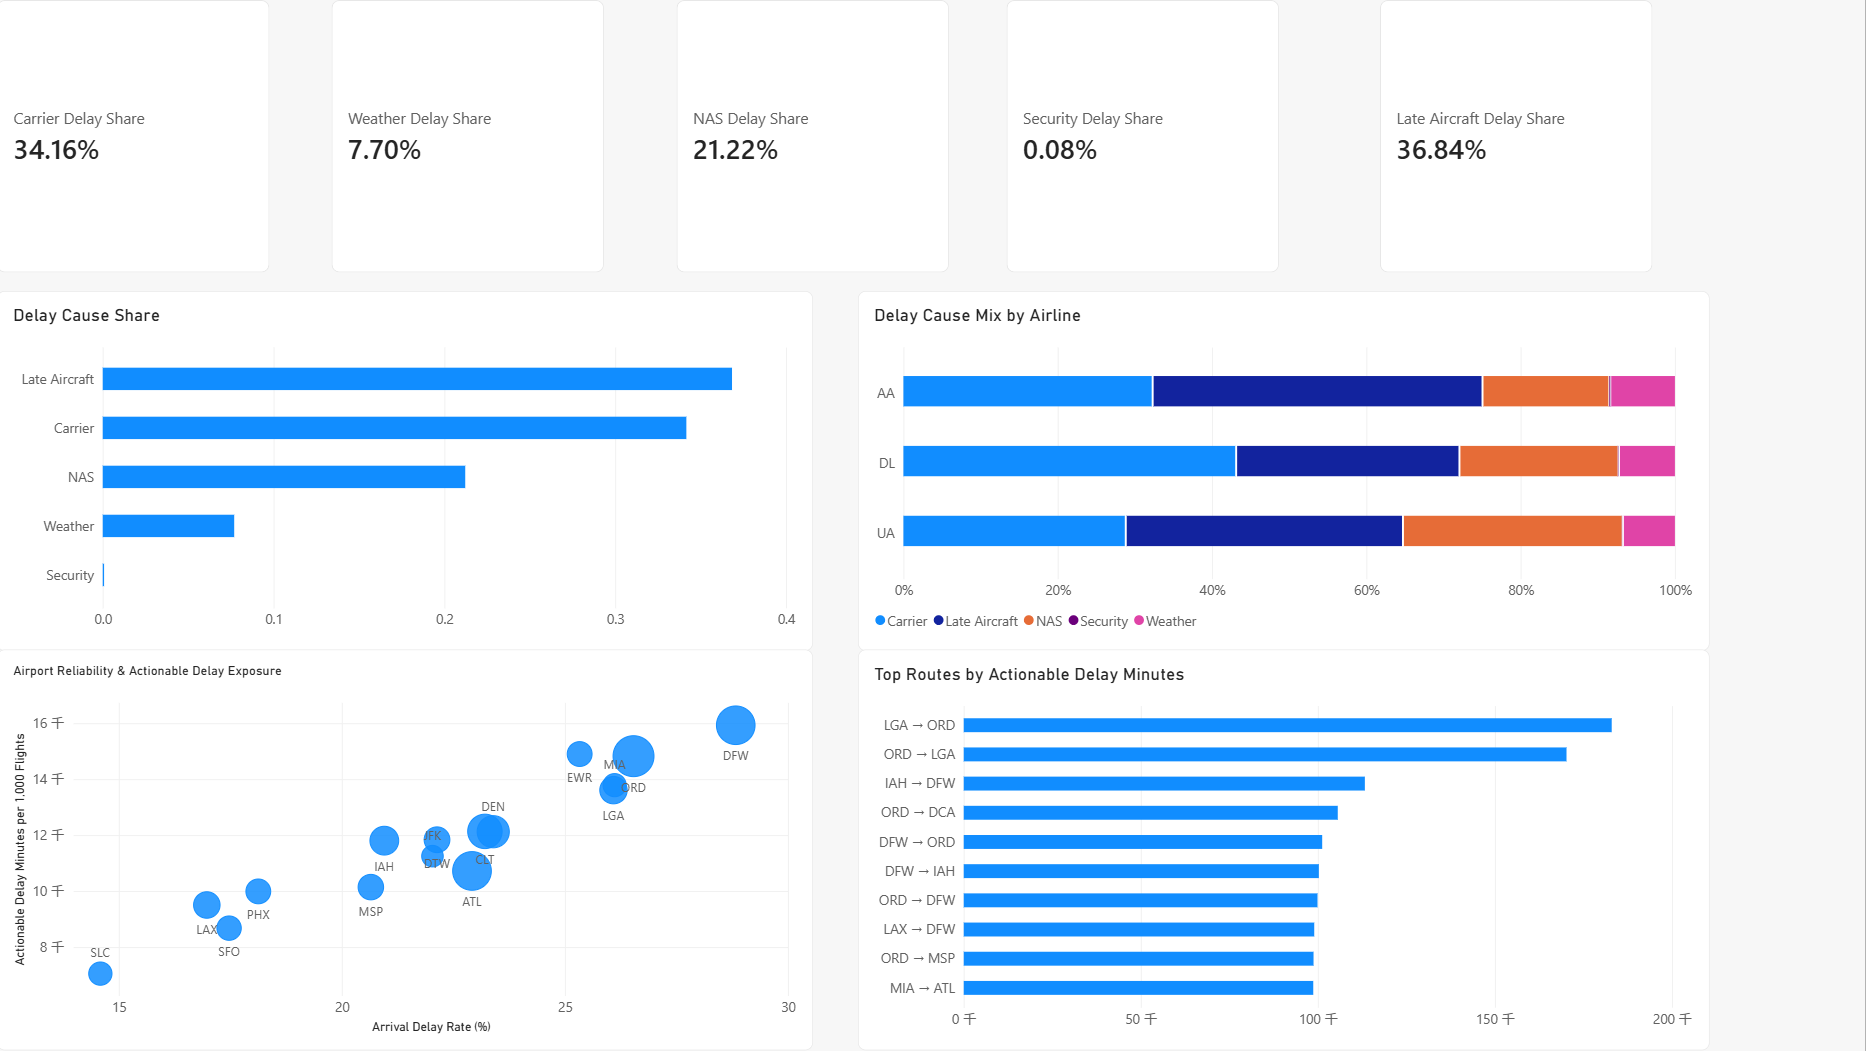

The page's visual inventory and layout, read from the dashboard file:
{"tool":"powerbi","page":{"name":"Root Causes & Network Performance","canvas":[1920,1080],"ordinal":1},"visuals":[{"type":"cardVisual","fields":{"Data":["flight_dashboard.Carrier Delay Share"]},"box":[0,0,280,280],"z":0},{"type":"cardVisual","fields":{"Data":["flight_dashboard.Weather Delay Share"]},"box":[343.3,0,280,280],"z":1000},{"type":"cardVisual","fields":{"Data":["flight_dashboard.NAS Delay Share"]},"box":[698.3,0,280,280],"z":2000},{"type":"cardVisual","fields":{"Data":["flight_dashboard.Security Delay Share"]},"box":[1038.3,0,280,280],"z":3000},{"type":"cardVisual","fields":{"Data":["flight_dashboard.Late Aircraft Delay Share"]},"box":[1421.7,0,280,280],"z":4000},{"type":"clusteredBarChart","title":"Delay Cause Share ","fields":{"Category":["DelayCause.Delay Cause"],"Y":["DelayCause.Delay Cause Share Selected"]},"box":[0,298.3,838.3,370],"z":5000},{"type":"hundredPercentStackedBarChart","title":"Delay Cause Mix by Airline","fields":{"Category":["flight_dashboard.Marketing_Airline_Network"],"Series":["DelayCause.Delay Cause"],"Y":["DelayCause.Delay Cause Minutes Selected"]},"box":[885,298.3,875,370],"z":6000},{"type":"scatterChart","title":"Airport Reliability & Actionable Delay Exposure","fields":{"Category":["airport_priority.Origin"],"Size":["Sum(airport_priority.ScheduledDepartures)"],"X":["Sum(airport_priority.DelayRatePct)"],"Y":["Sum(airport_priority.ActionableDelayIntensity)"]},"box":[0,668.3,838.3,411.7],"z":7000},{"type":"clusteredBarChart","title":"Top Routes by Actionable Delay Minutes","fields":{"Category":["flight_dashboard.Route"],"Y":["Sum(flight_dashboard.ActionableDelayMinutes)"]},"box":[885,668,875,412],"z":8000}]}

Visuals, with their boxes in screenshot pixels (x1, y1, x2, y2), scaled from the page's 1920x1080 canvas onto the 1870x1051 screenshot:
cardVisual - flight_dashboard.Carrier Delay Share: bbox=[0, 0, 273, 272]
cardVisual - flight_dashboard.Weather Delay Share: bbox=[334, 0, 607, 272]
cardVisual - flight_dashboard.NAS Delay Share: bbox=[680, 0, 953, 272]
cardVisual - flight_dashboard.Security Delay Share: bbox=[1011, 0, 1284, 272]
cardVisual - flight_dashboard.Late Aircraft Delay Share: bbox=[1385, 0, 1657, 272]
"Delay Cause Share " clusteredBarChart: bbox=[0, 290, 816, 650]
"Delay Cause Mix by Airline" hundredPercentStackedBarChart: bbox=[862, 290, 1714, 650]
"Airport Reliability & Actionable Delay Exposure" scatterChart: bbox=[0, 650, 816, 1050]
"Top Routes by Actionable Delay Minutes" clusteredBarChart: bbox=[862, 650, 1714, 1050]
